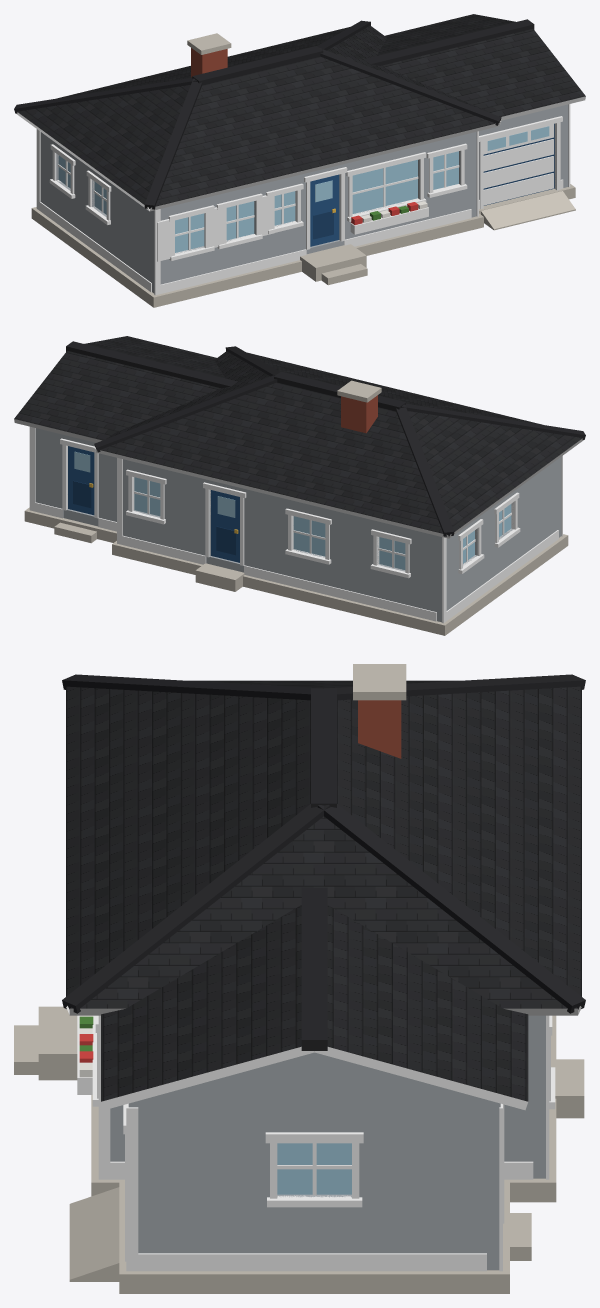
The model's file is base-02-level2.glb.
The picture shows the model from 3 angles, top to bottom: view 1: azimuth 30°, elevation 25°; view 2: azimuth 150°, elevation 25°; view 3: azimuth 270°, elevation 25°; orthographic projection. The views are drawn at different scales.
Parts seen in each view (by area): view 1: base_house_2_finished, piece_garage; view 2: base_house_2_finished, piece_garage; view 3: base_house_2_finished, piece_garage.
Part boxes in pixels (bbox=[...]): base_house_2_finished: bbox=[14, 20, 501, 307]; piece_garage: bbox=[364, 14, 585, 230]; base_house_2_finished: bbox=[94, 346, 585, 635]; piece_garage: bbox=[14, 336, 237, 543]; base_house_2_finished: bbox=[14, 664, 585, 1202]; piece_garage: bbox=[69, 887, 531, 1293].
Bounding box in the file's own units: 15.92 × 6.04 × 9.23.
15 materials, 1 textured.
